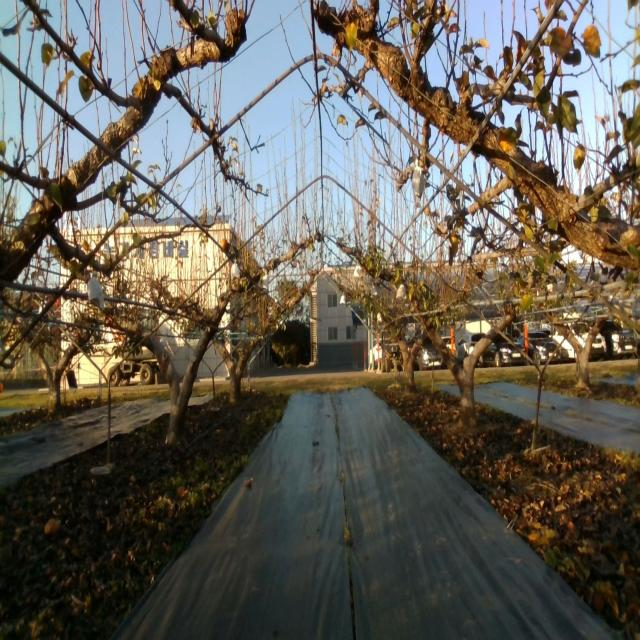pearbags: (87, 270, 105, 310), (411, 158, 425, 201), (230, 257, 240, 281)
